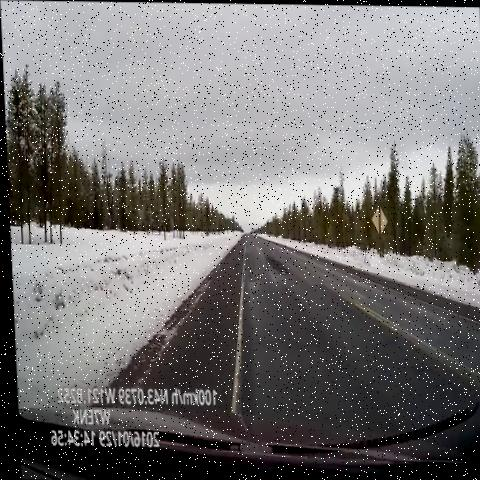pothole: (267, 246, 290, 280), (243, 267, 257, 294)
